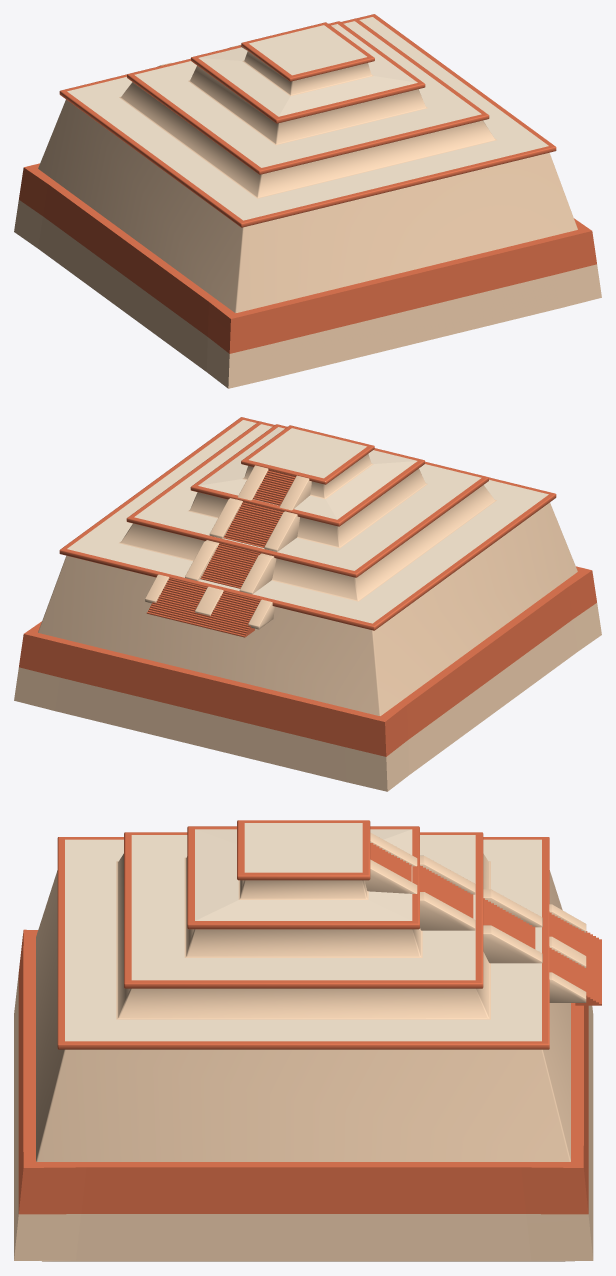
The model's file is new_temple_LS_D.fbx.
3 views of the same model, one above another, from view 1: azimuth 30°, elevation 25°; view 2: azimuth 150°, elevation 25°; view 3: azimuth 270°, elevation 25° (orthographic). The views are drawn at different scales.
Visible parts, largest first — view 1: LS_D_new; view 2: LS_D_new, Temple_Stairs_new, Temple_stairs_support_new; view 3: LS_D_new, Temple_stairs_support_new, Temple_Stairs_new.
Boxes of the visible parts, box(x1,y1,x2,y2) form: LS_D_new: box(14, 14, 601, 388); LS_D_new: box(14, 417, 601, 791); Temple_Stairs_new: box(146, 469, 296, 637); Temple_stairs_support_new: box(145, 465, 311, 629); LS_D_new: box(14, 820, 593, 1261); Temple_stairs_support_new: box(364, 832, 586, 1002); Temple_Stairs_new: box(370, 843, 601, 1005).
Bounding box in the file's own units: 5736 × 3295 × 5786.
